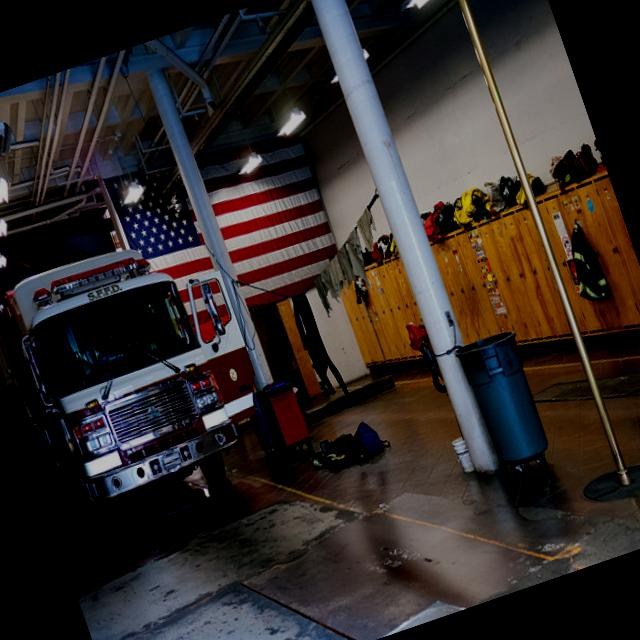Vehicle: (0, 228, 255, 561)
